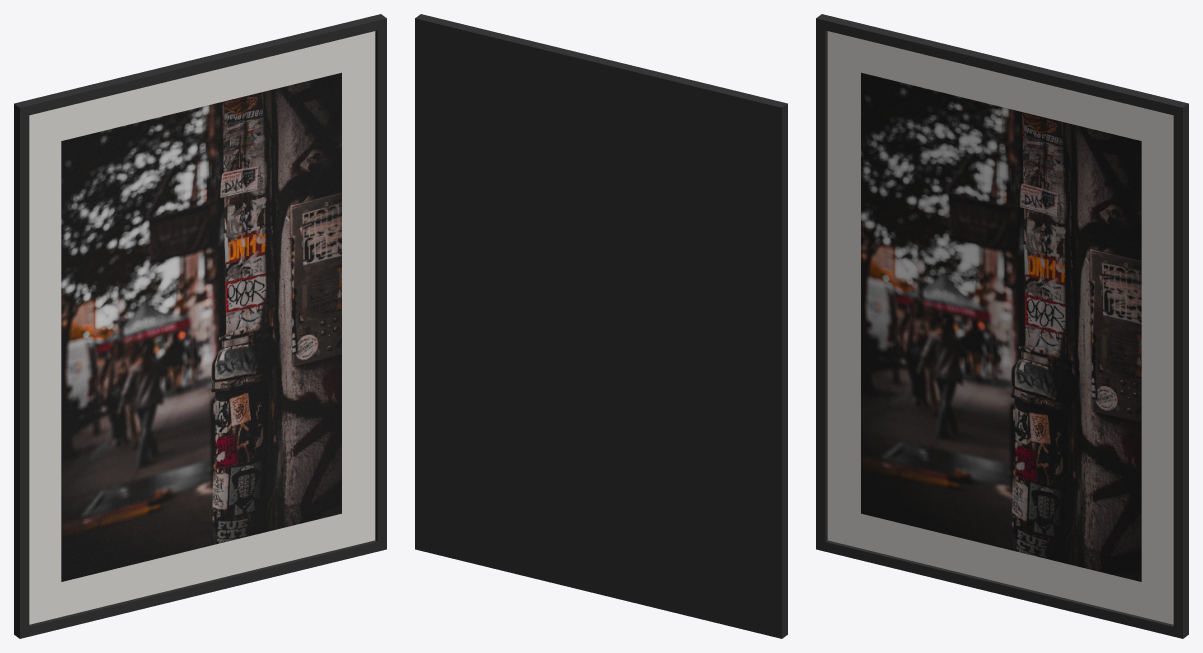
File: klistermarken-90.gltf
3 views of the same model, side by side, from view 1: azimuth 30°, elevation 25°; view 2: azimuth 150°, elevation 25°; view 3: azimuth 330°, elevation 25° (orthographic).
Parts seen in each view (by area): view 1: tavla; view 2: tavla; view 3: tavla.
Boxes of the visible parts, bbox=[...] form: tavla: bbox=[14, 14, 386, 638]; tavla: bbox=[415, 14, 787, 638]; tavla: bbox=[816, 14, 1188, 638].
Size of the model in its own units: 0.784 by 1.08 by 0.022.
3 materials, 1 textured.
